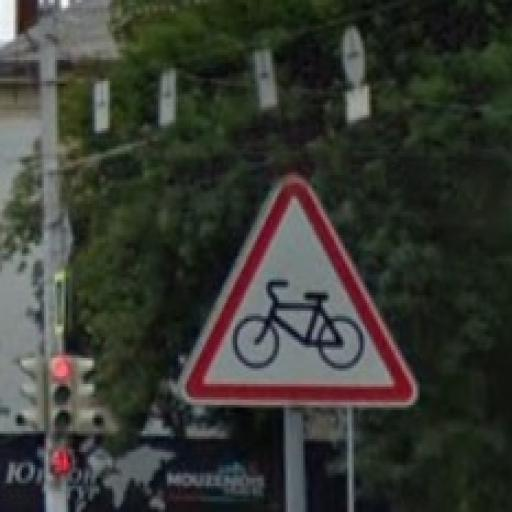traffic_sign: (177, 171, 421, 414)
